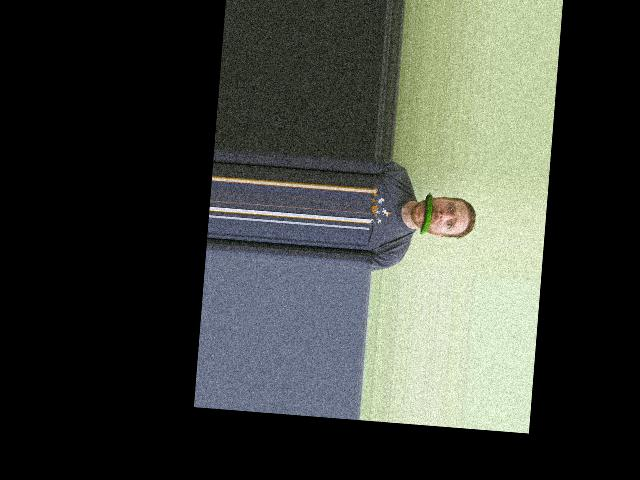cucumber: (419, 192, 433, 235)
